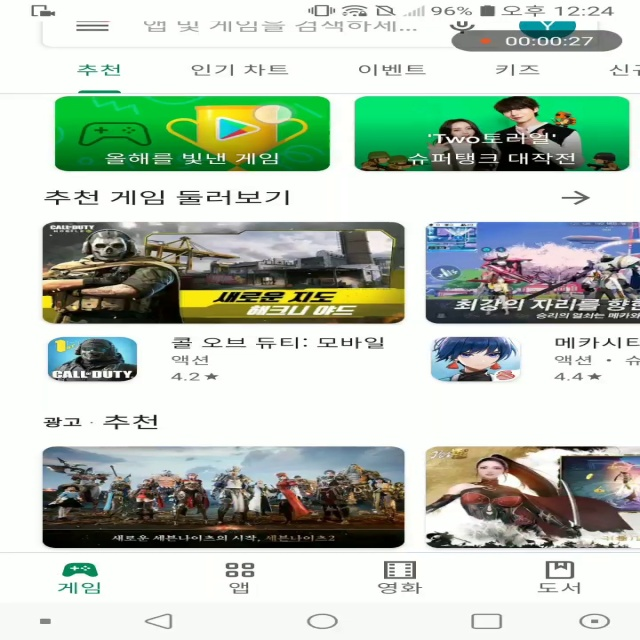Cursor: (251, 104, 296, 126)
